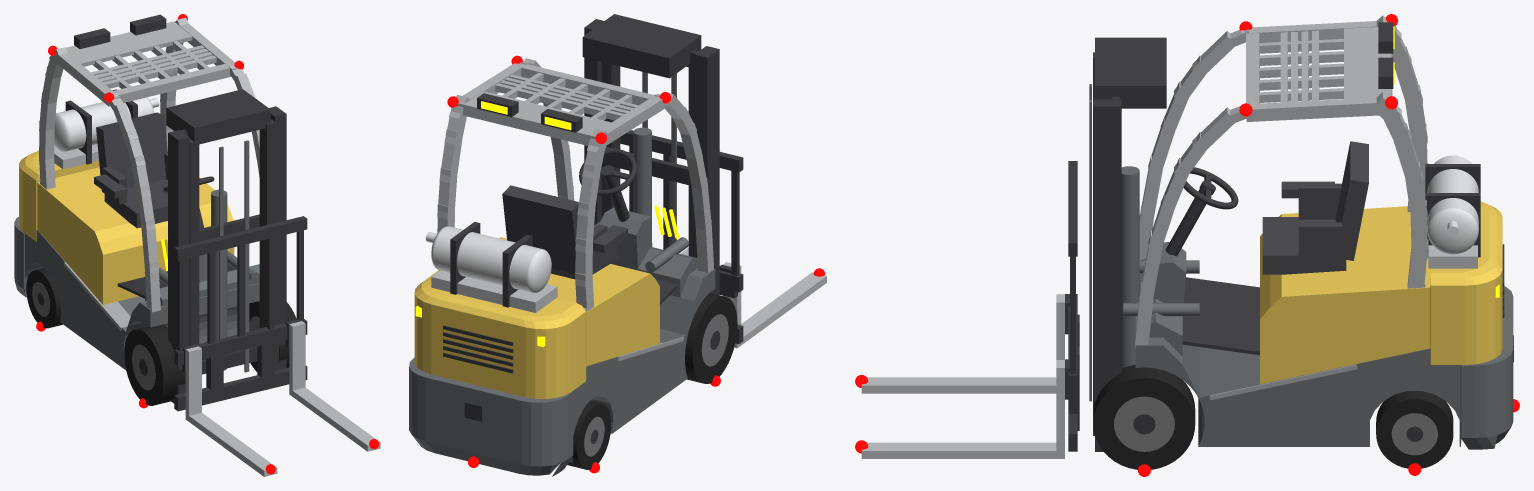
File: crown_c5.glb
3 renders of one model, left to right at view 1: azimuth 30°, elevation 25°; view 2: azimuth 150°, elevation 25°; view 3: azimuth 270°, elevation 25°, orthographic. The views are drawn at different scales.
Parts seen in each view (by area): view 1: mast, counterweight, carriage, body, overhead_guard, overhead_guard_roof, mast_inner, cab, wheel_front_right, lpg_tank, fork_left, fork_right (+3 smaller); view 2: counterweight, body, mast, overhead_guard, cab, lpg_tank, overhead_guard_roof, wheel_front_right, carriage, mast_inner, fork_right, wheel_rear_right (+1 smaller); view 3: body, counterweight, mast, overhead_guard, cab, overhead_guard_roof, wheel_front_left, lpg_tank, wheel_rear_left, fork_left, fork_right, carriage (+2 smaller).
Part boxes in pixels (x1,y1,x2,y2): mast: (159,89,286,403); counterweight: (19,151,234,304); carriage: (174,216,307,411); body: (14,217,259,370); overhead_guard: (38,17,259,312); overhead_guard_roof: (53,21,230,106); mast_inner: (189,119,275,372); cab: (94,112,259,306); wheel_front_right: (124,324,185,405); lpg_tank: (54,89,159,169); fork_left: (285,319,380,451); fork_right: (182,344,277,476); counterweight: (414,237,659,398); body: (409,268,715,476); mast: (582,14,719,295); overhead_guard: (437,58,713,311); cab: (502,148,697,297); lpg_tank: (425,222,557,312); overhead_guard_roof: (457,64,665,147); wheel_front_right: (685,293,737,383); carriage: (620,130,743,343); mast_inner: (601,62,694,257); fork_right: (719,262,826,348); wheel_rear_right: (567,400,611,469); body: (1135,277,1513,449); counterweight: (1260,201,1504,384); mast: (1095,37,1199,451); overhead_guard: (1135,15,1428,347); cab: (1137,141,1368,356); overhead_guard_roof: (1246,27,1392,121); wheel_front_left: (1093,364,1195,469); lpg_tank: (1425,155,1480,268); wheel_rear_left: (1376,391,1453,468); fork_left: (861,359,1072,458); fork_right: (861,294,1069,393); carriage: (1068,161,1079,451).
Bounding box in the file's own units: 1.16 × 2.22 × 3.49.
